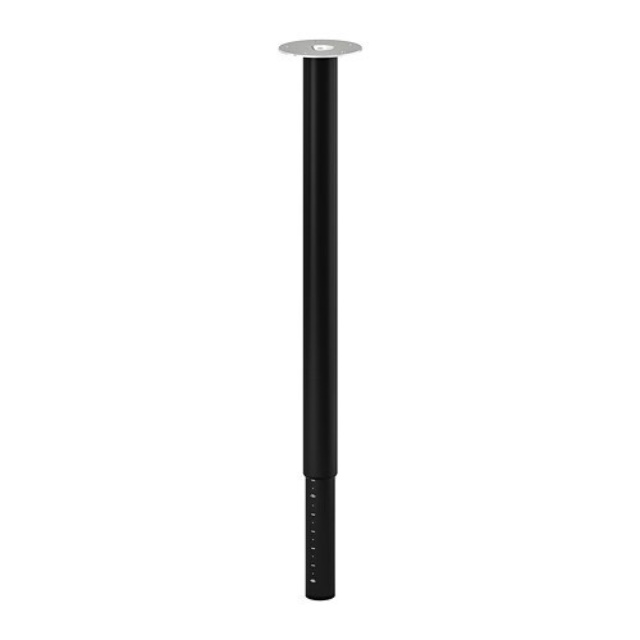obstacle: (279, 40, 360, 599)
